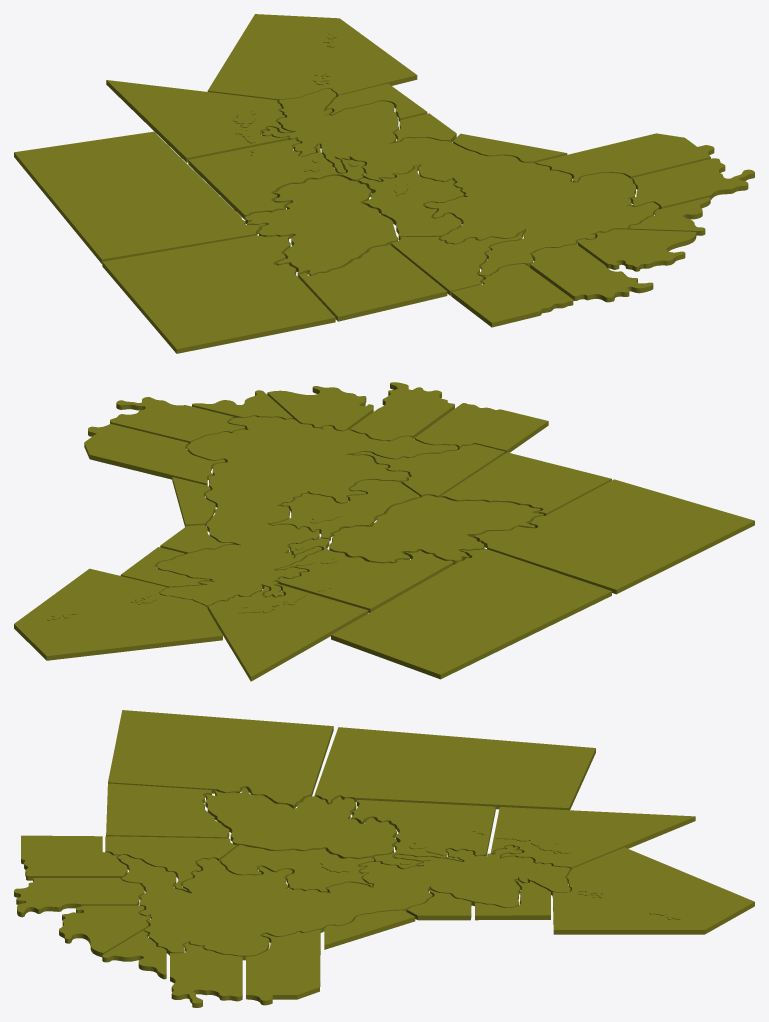
File: SFR.fbx
3 views of the same model, one above another, from view 1: azimuth 30°, elevation 25°; view 2: azimuth 150°, elevation 25°; view 3: azimuth 270°, elevation 25° (orthographic). The views are drawn at different scales.
Parts seen in each view (by area): view 1: Land, Rockall, Shannon, Fair Isle, Hebrides, Malin, Fastnet, Humber, Plymouth, Isish Sea, Portland, Thames (+6 smaller); view 2: Land, Rockall, Shannon, Fair Isle, Hebrides, Malin, Fastnet, Humber, Isish Sea, Plymouth, Lundy, Portland (+6 smaller); view 3: Land, Rockall, Shannon, Fair Isle, Hebrides, Malin, Fastnet, Humber, Isish Sea, Plymouth, Portland, Thames (+6 smaller).
Part boxes in pixels (bbox=[...]): Land: bbox=[233, 32, 659, 279]; Rockall: bbox=[14, 131, 265, 263]; Shannon: bbox=[102, 235, 335, 353]; Fair Isle: bbox=[207, 14, 417, 103]; Hebrides: bbox=[106, 80, 290, 162]; Malin: bbox=[188, 139, 364, 219]; Fastnet: bbox=[298, 244, 447, 321]; Humber: bbox=[535, 133, 714, 182]; Plymouth: bbox=[451, 264, 573, 327]; Isish Sea: bbox=[358, 165, 464, 240]; Portland: bbox=[530, 244, 653, 302]; Thames: bbox=[631, 158, 754, 209]; Land: bbox=[47, 416, 543, 620]; Rockall: bbox=[331, 548, 611, 679]; Shannon: bbox=[474, 479, 754, 594]; Fair Isle: bbox=[14, 568, 222, 660]; Hebrides: bbox=[208, 584, 368, 681]; Malin: bbox=[276, 538, 453, 612]; Fastnet: bbox=[441, 452, 611, 515]; Humber: bbox=[84, 424, 225, 485]; Isish Sea: bbox=[269, 480, 420, 541]; Plymouth: bbox=[415, 403, 548, 453]; Lundy: bbox=[350, 444, 505, 497]; Portland: bbox=[350, 382, 454, 441]; Land: bbox=[118, 787, 680, 960]; Rockall: bbox=[314, 727, 595, 810]; Shannon: bbox=[108, 710, 333, 808]; Fair Isle: bbox=[552, 847, 754, 934]; Hebrides: bbox=[490, 807, 695, 870]; Malin: bbox=[351, 800, 495, 869]; Fastnet: bbox=[106, 783, 229, 838]; Humber: bbox=[246, 929, 320, 1005]; Isish Sea: bbox=[220, 845, 373, 892]; Plymouth: bbox=[21, 835, 127, 880]; Portland: bbox=[14, 878, 144, 917]; Thames: bbox=[170, 943, 242, 1007].
Size of the model in its own units: 0.1364 by 0.1456 by 0.00113.
